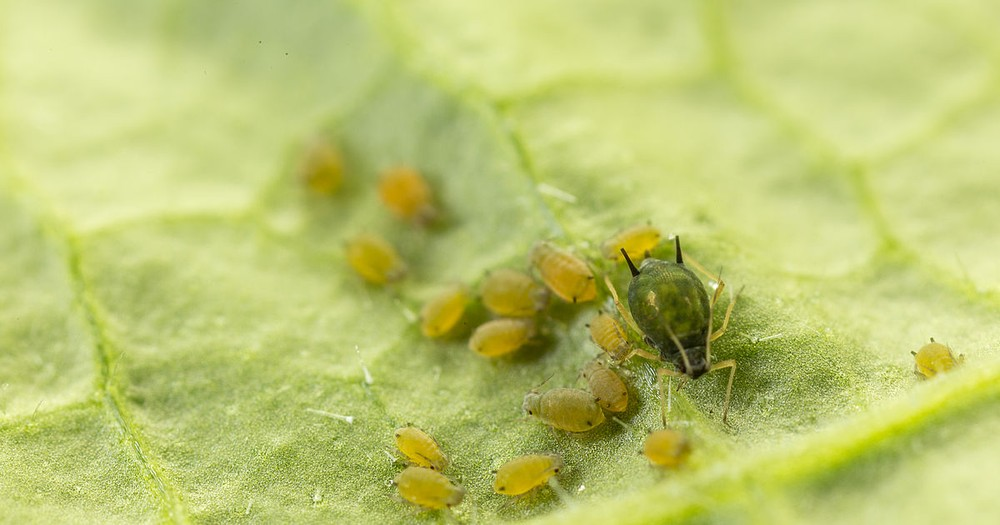Pulgon: (603, 239, 766, 429), (897, 315, 988, 409), (368, 457, 482, 520), (526, 235, 613, 314), (515, 378, 613, 441), (481, 444, 577, 504), (634, 419, 724, 482), (379, 421, 470, 476), (575, 351, 644, 417), (578, 308, 651, 370), (406, 272, 472, 340), (460, 311, 550, 358), (592, 220, 681, 267), (477, 261, 550, 318)
